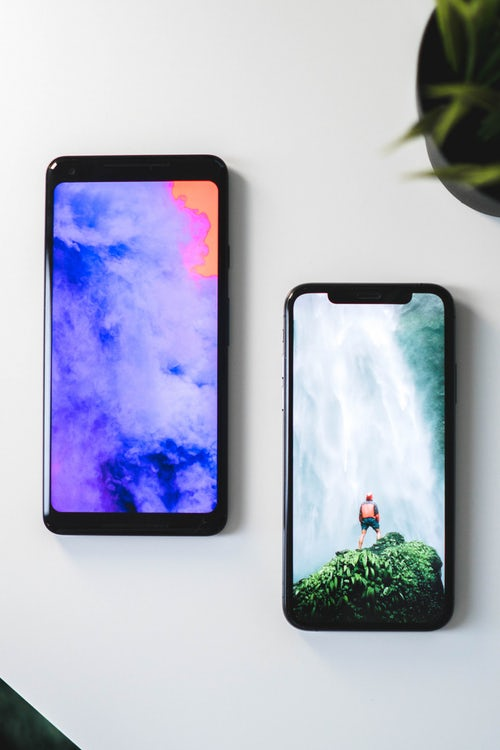phone: (44, 151, 234, 542), (279, 281, 465, 639)
